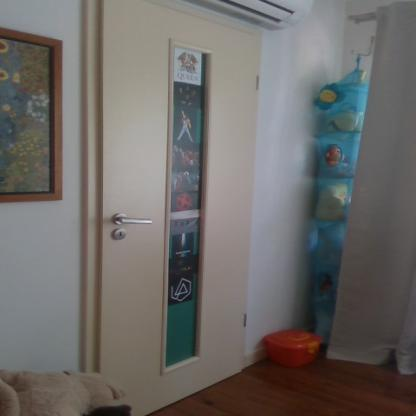door: (102, 0, 245, 383)
hinged: (256, 74, 260, 92), (242, 313, 246, 327)
lever: (118, 216, 153, 225)
